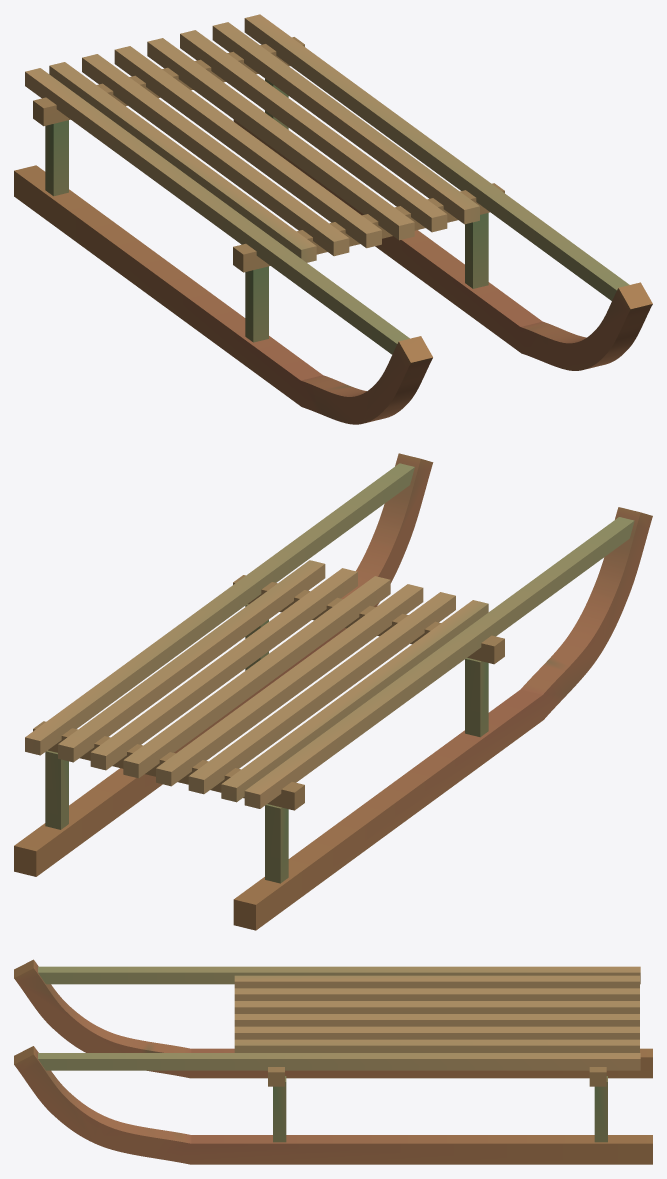
3 renders of one model, top to bottom at view 1: azimuth 30°, elevation 25°; view 2: azimuth 150°, elevation 25°; view 3: azimuth 270°, elevation 25°, orthographic. The views are drawn at different scales.
Parts seen in each view (by area): view 1: bent_runner, bent_runner.001, side_rail.003, side_rail, seat_slat.004, seat_slat.005, seat_slat.006, seat_slat.002, seat_slat.003, seat_slat.001, bearer.001, upright.001 (+3 smaller); view 2: bent_runner, side_rail, side_rail.003, bent_runner.001, seat_slat.006, seat_slat.004, seat_slat.005, seat_slat.002, seat_slat.003, seat_slat.001, upright.002, upright.001 (+3 smaller); view 3: bent_runner.001, side_rail.003, bent_runner, side_rail, seat_slat.005, seat_slat.006, seat_slat.001, seat_slat.002, seat_slat.003, seat_slat.004, upright.003, upright.004 (+2 smaller).
Boxes of the visible parts, x1,y1,x2,y2 form: bent_runner: (14, 165, 432, 424); bent_runner.001: (233, 119, 652, 370); side_rail.003: (244, 14, 629, 300); side_rail: (25, 68, 409, 354); seat_slat.004: (147, 38, 414, 240); seat_slat.005: (180, 30, 447, 232); seat_slat.006: (212, 22, 479, 224); seat_slat.002: (82, 54, 349, 256); seat_slat.003: (114, 46, 381, 248); seat_slat.001: (49, 62, 316, 262); bearer.001: (233, 183, 504, 272); upright.001: (245, 266, 268, 342); bent_runner: (233, 507, 652, 930); side_rail: (244, 517, 634, 808); side_rail.003: (25, 463, 414, 755); bent_runner.001: (14, 453, 433, 876); seat_slat.006: (58, 560, 325, 762); seat_slat.004: (123, 576, 390, 778); seat_slat.005: (90, 568, 357, 770); seat_slat.002: (188, 592, 455, 794); seat_slat.003: (156, 584, 423, 786); seat_slat.001: (221, 600, 488, 802); upright.002: (265, 804, 288, 883); upright.001: (465, 658, 488, 737); bent_runner.001: (14, 1046, 652, 1164); side_rail.003: (38, 1053, 640, 1070); bent_runner: (14, 959, 652, 1078); side_rail: (38, 966, 640, 984); seat_slat.005: (234, 1026, 639, 1039); seat_slat.006: (234, 1039, 639, 1052); seat_slat.001: (234, 975, 639, 988); seat_slat.002: (234, 988, 639, 1000); seat_slat.003: (234, 1001, 639, 1013); seat_slat.004: (234, 1014, 639, 1026); upright.003: (273, 1076, 286, 1142); upright.004: (594, 1076, 607, 1142).
Bounding box in the file's own units: 0.4564 × 0.2279 × 1.2.
